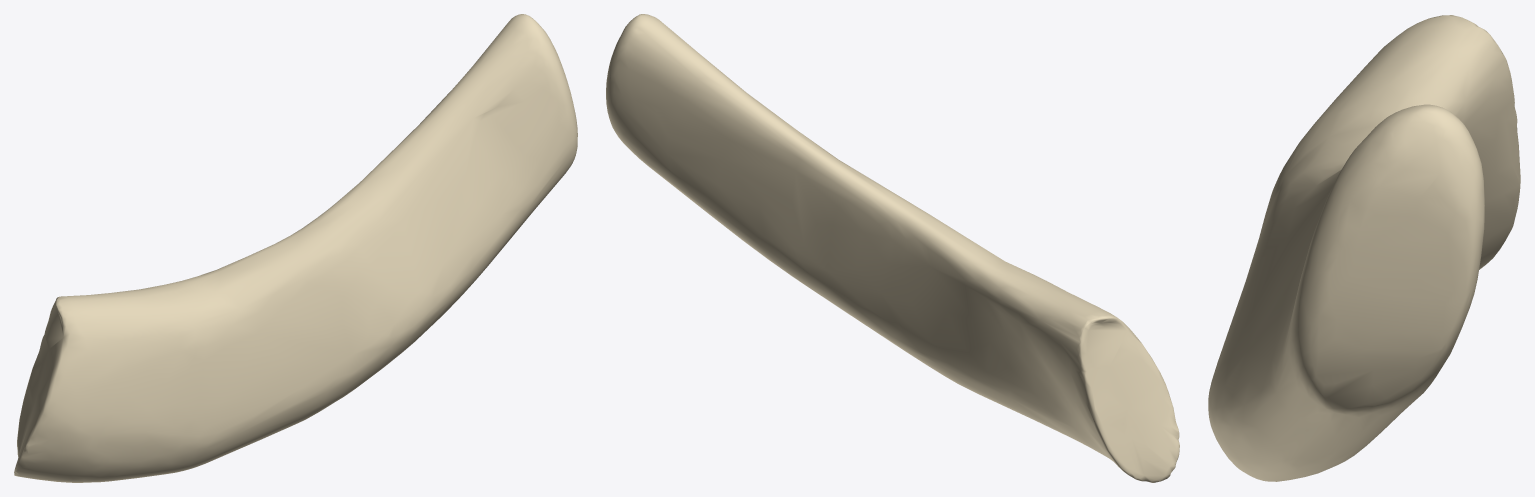
Rendered from esqueleto-costal-cartilage-of-fifth-rib-r.glb.
3 views of the same model, side by side, from view 1: azimuth 30°, elevation 25°; view 2: azimuth 150°, elevation 25°; view 3: azimuth 270°, elevation 25° (orthographic). The views are drawn at different scales.
Parts seen in each view (by area): view 1: Costal cartilage of fifth rib.r; view 2: Costal cartilage of fifth rib.r; view 3: Costal cartilage of fifth rib.r.
Boxes of the visible parts, x1,y1,x2,y2 form: Costal cartilage of fifth rib.r: (14, 14, 577, 482); Costal cartilage of fifth rib.r: (606, 14, 1179, 482); Costal cartilage of fifth rib.r: (1208, 15, 1520, 481).
Bounding box in the file's own units: 0.0656 × 0.0394 × 0.0163.
